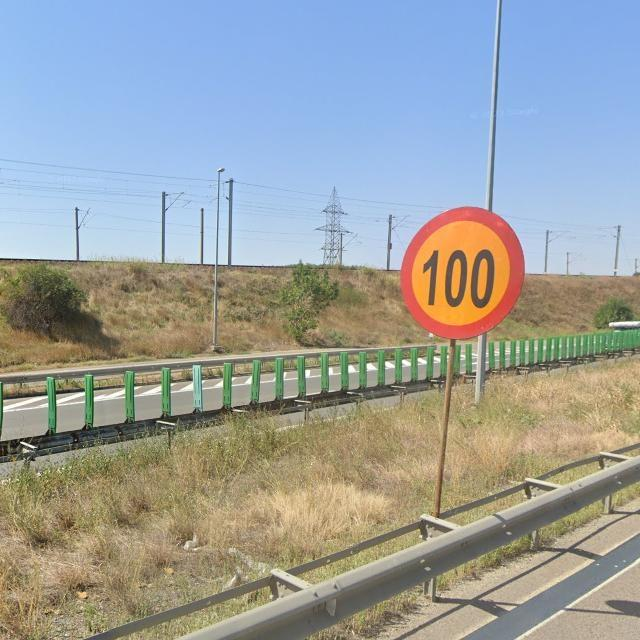forb_speed_over_100: (400, 206, 525, 339)
